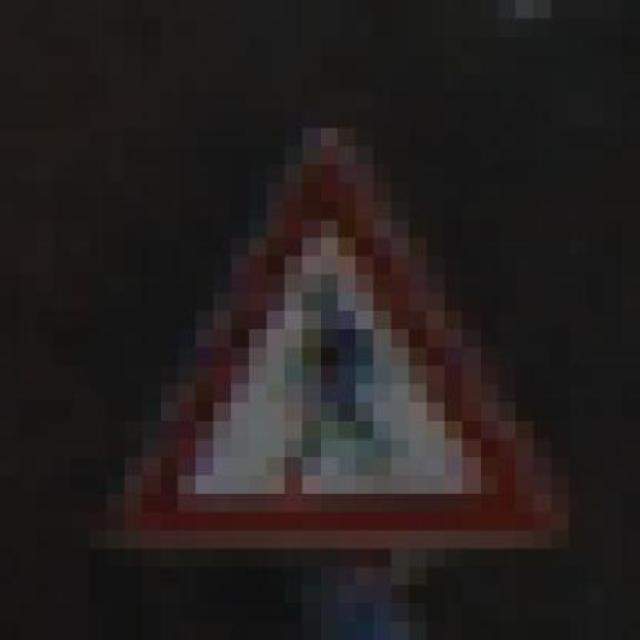Pedestrian Crossing: (124, 128, 587, 586)
